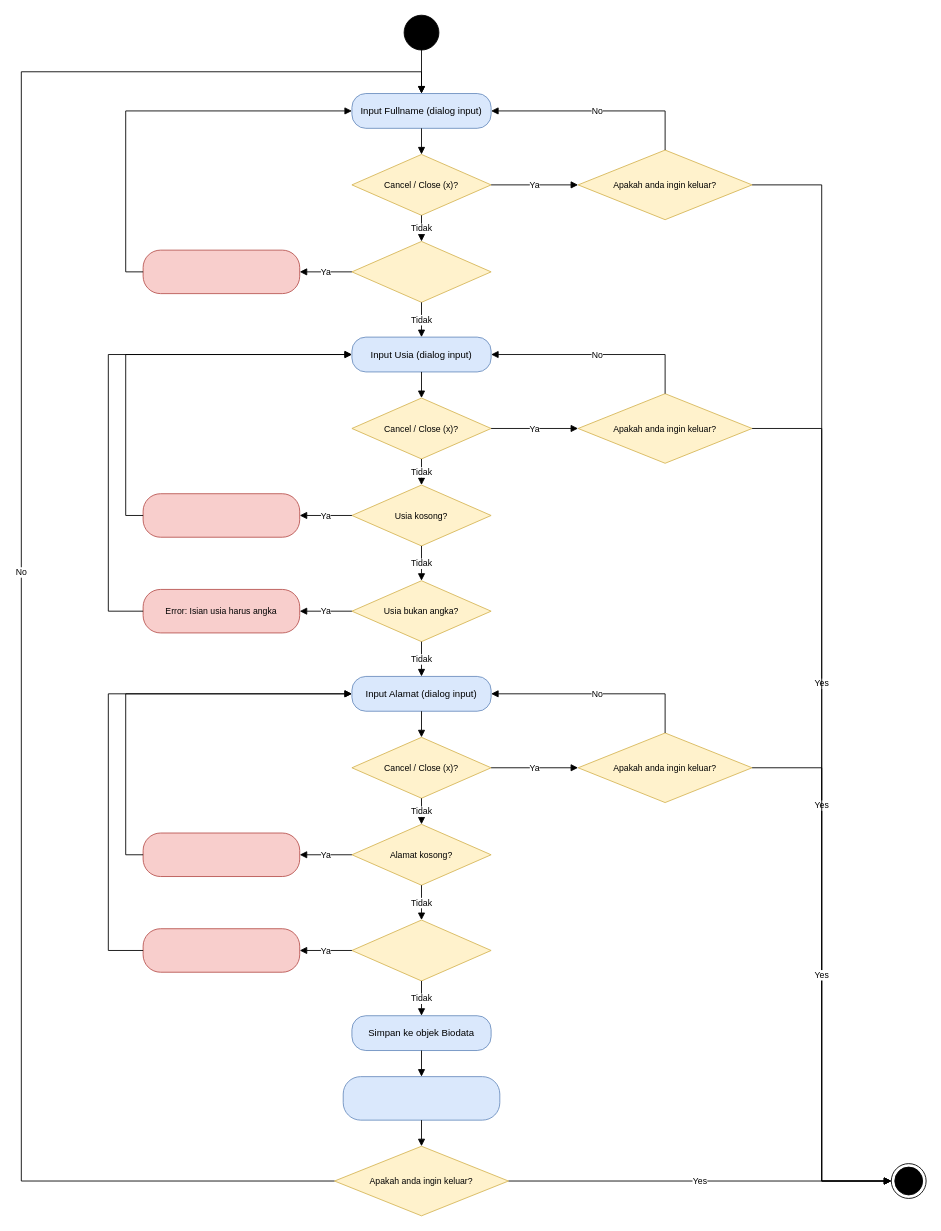
Some shapes in this 941 by 1231 pixel diagram are drawn without their labels. The centre of each missing label's shape, as x and y in pixels:
"Alamat kurang dari 10 karakter?" belongs at point (421, 950).
"Error: Field alamat tidak boleh kosong" belongs at point (221, 854).
"Error: Field fullname tidak boleh kosong" belongs at point (221, 271).
"Error: Field usia tidak boleh kosong" belongs at point (221, 515).
"Fullname kosong?" belongs at point (421, 271).
"Tampilkan dialog Info: seluruh data (klik OK)" belongs at point (421, 1098).
"Warning: Masukan alamat minimum 10 karakter" belongs at point (221, 950).
